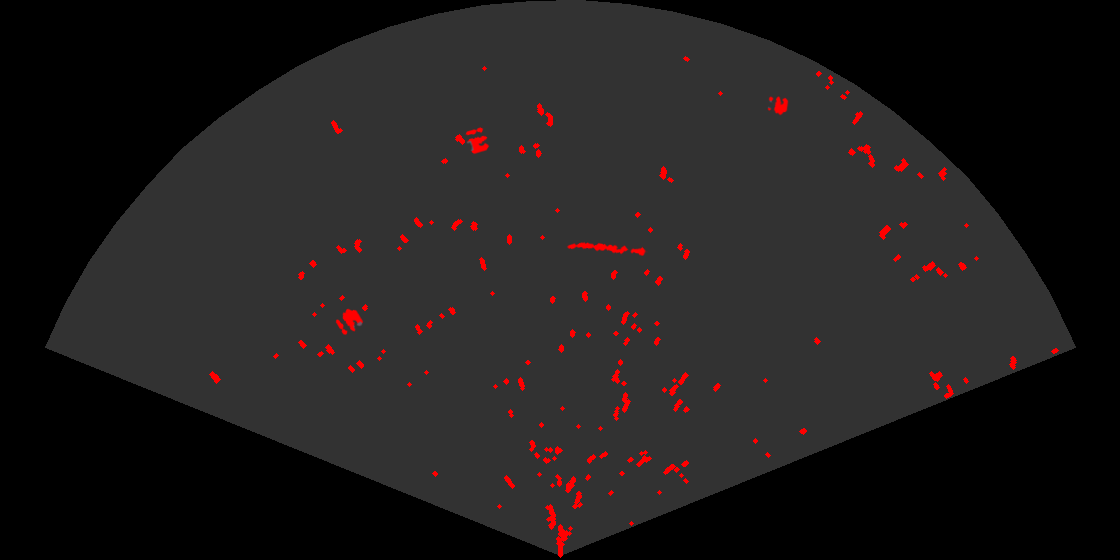ball: (334, 307, 365, 337), (464, 126, 491, 156), (766, 95, 790, 117)
chain: (566, 240, 648, 257)
